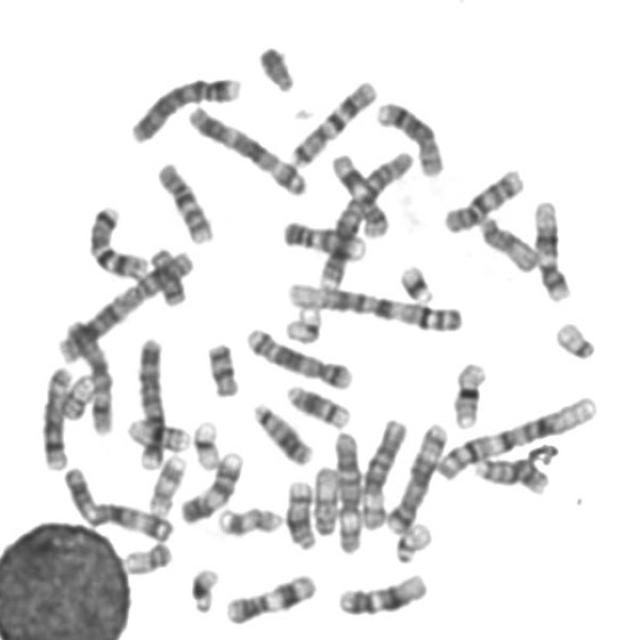A1: (426, 386, 602, 484), (282, 275, 468, 334)
A2: (51, 239, 194, 364), (313, 141, 417, 291)
A3: (180, 96, 310, 197), (56, 459, 177, 543)
B4: (124, 67, 244, 145), (130, 330, 168, 472)
B5: (381, 414, 450, 536), (239, 320, 355, 390)
C10: (436, 160, 527, 235), (150, 154, 216, 246)
C11: (326, 146, 392, 240), (219, 566, 319, 626)
C12: (331, 565, 431, 618), (527, 193, 573, 303)
C6: (355, 410, 410, 530), (327, 423, 365, 556)
C7: (284, 73, 379, 169), (82, 197, 152, 281)
C8: (370, 92, 447, 178), (34, 357, 75, 472)
C9: (174, 442, 245, 524), (277, 214, 369, 262)
D13: (246, 394, 315, 466), (468, 448, 550, 496)
D14: (278, 376, 353, 429), (279, 473, 319, 551)
D15: (471, 206, 542, 274), (306, 459, 341, 537)
E16: (445, 354, 488, 430), (119, 411, 192, 453)
E17: (142, 448, 188, 517), (210, 498, 285, 538)
E18: (144, 239, 189, 307), (200, 334, 242, 400)
F19: (187, 412, 224, 471), (278, 301, 326, 346)
F20: (116, 533, 175, 576), (54, 368, 97, 420)
G21: (392, 256, 438, 304), (182, 560, 221, 615)
G22: (548, 314, 598, 362), (388, 516, 434, 564)
X: (56, 311, 118, 436)
Y: (252, 36, 298, 94)
